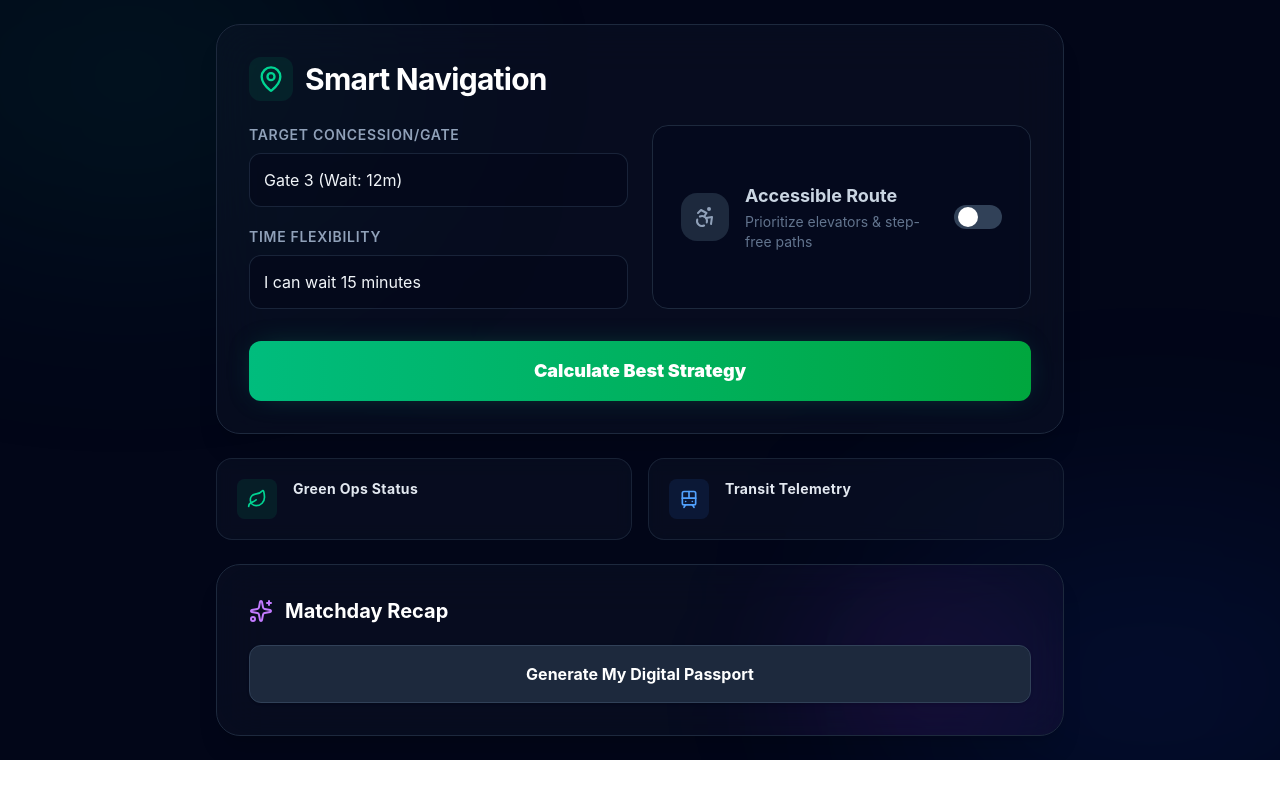
Test case: FanView › displays the AI recommendation after a successful prediction
What coordinates should you click on to do the following:
click the button "Calculate Best Strategy"
I would click on:
 (640, 371)
Its box is [249, 341, 1031, 401].
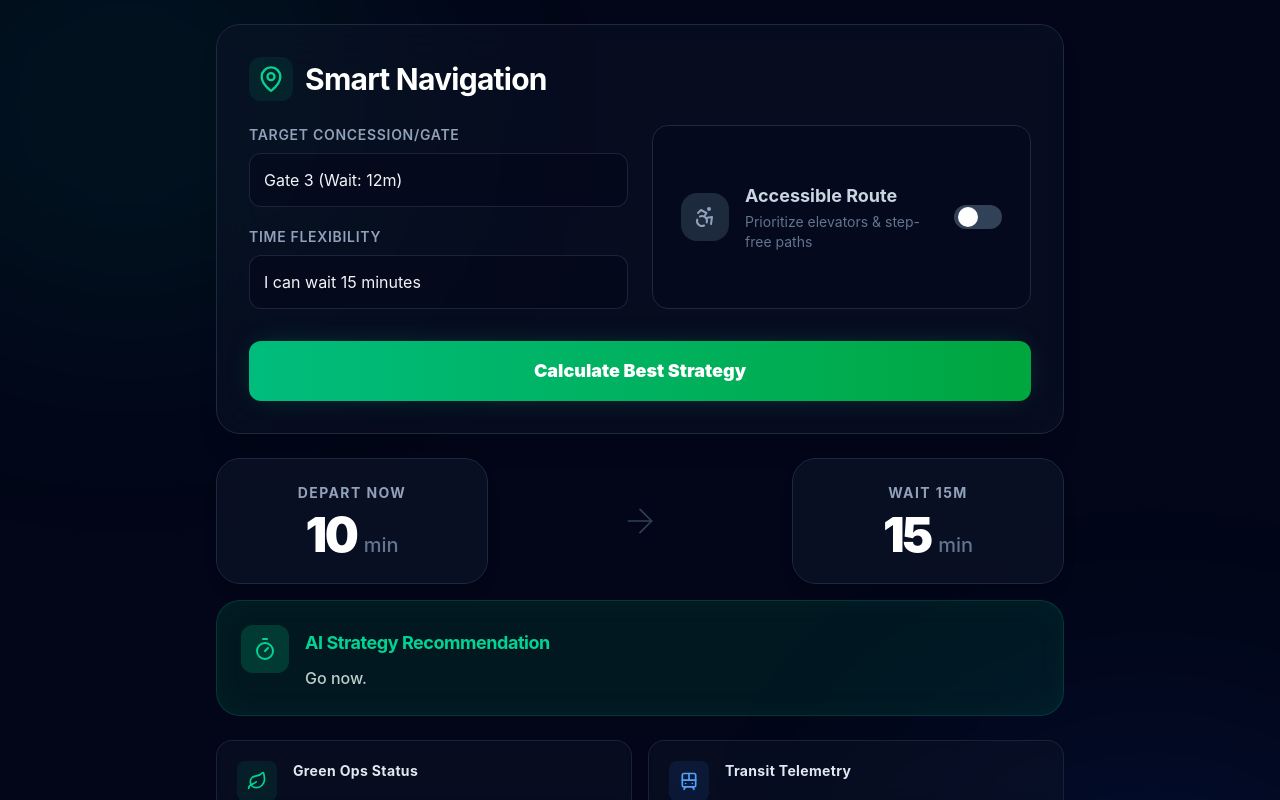
Result: the text "Go now." is shown at [305, 668, 367, 688]
